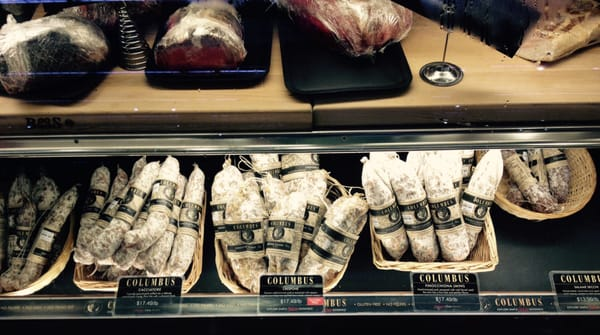salad: (0, 0, 248, 100), (324, 195, 368, 239), (408, 229, 439, 262)
